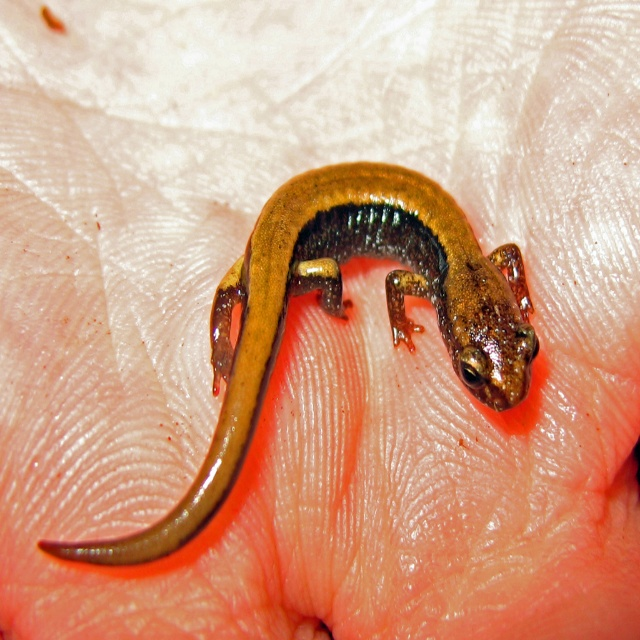Lizard: (38, 159, 534, 569)
